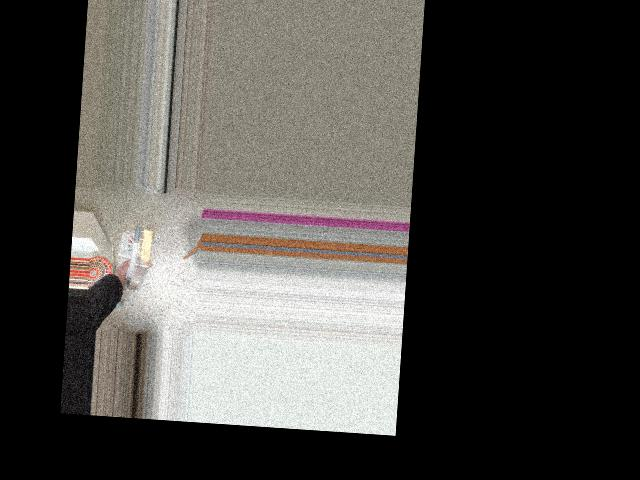cheese: (92, 222, 170, 279)
